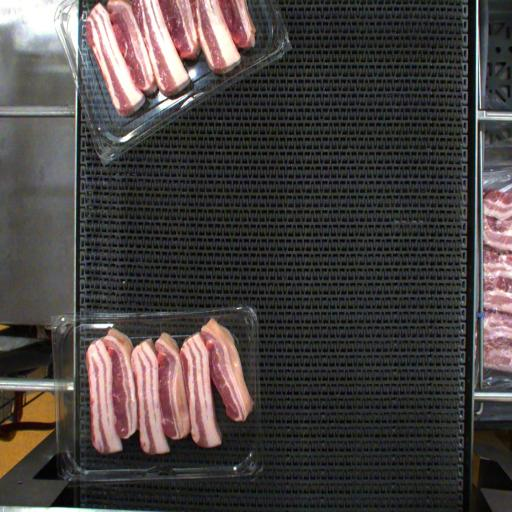loose-meat: (202, 319, 253, 423)
